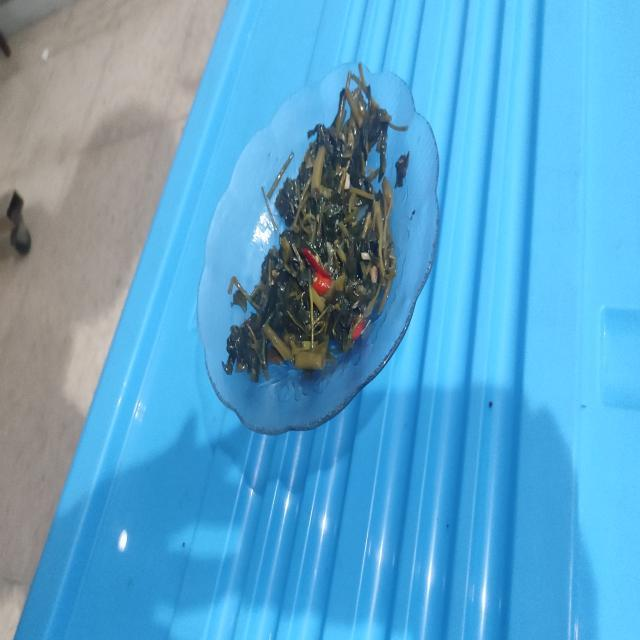tumis_kangkung: (223, 65, 407, 381)
